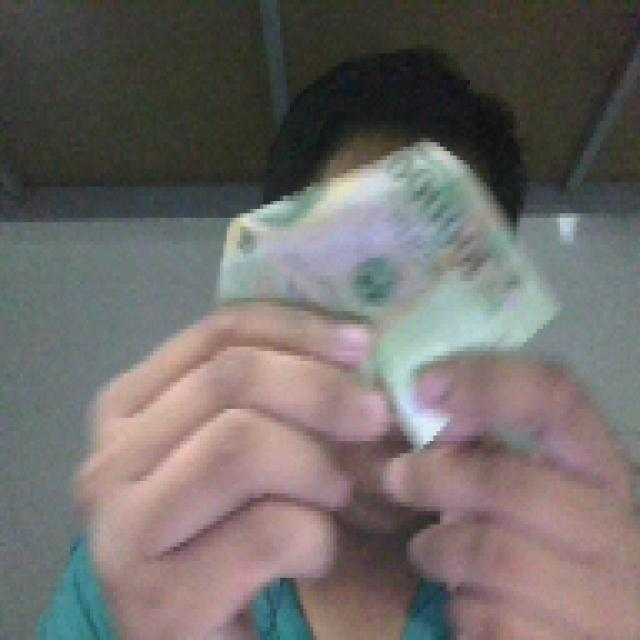100 000 VND: (210, 134, 567, 636)
